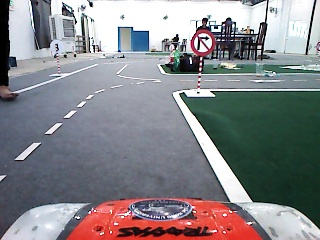ban: (187, 26, 218, 60)
